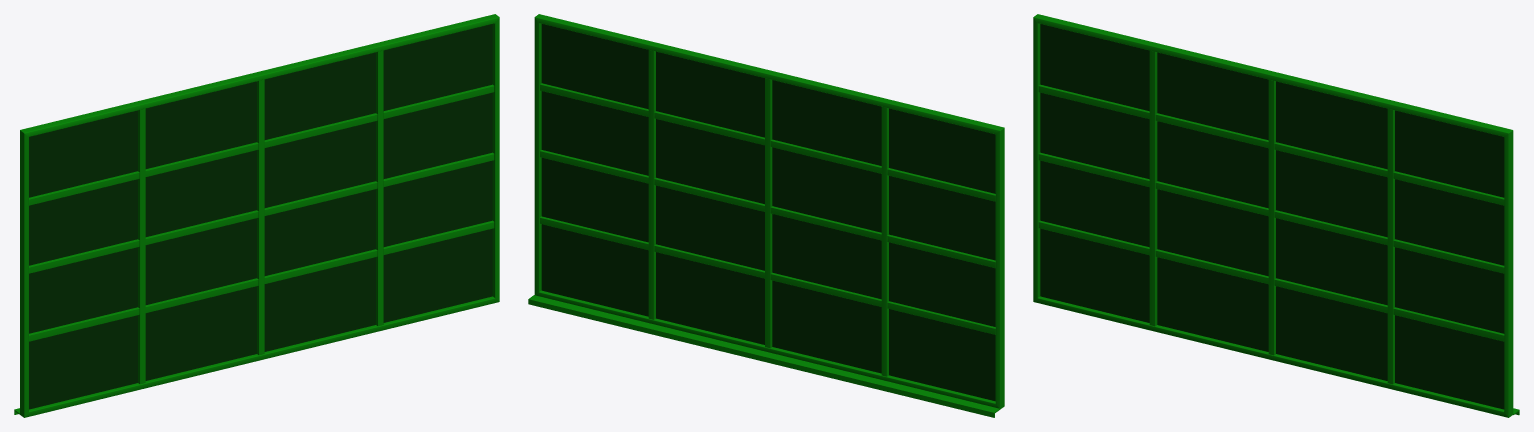
File: garage_door.fbx
3 renders of one model, left to right at view 1: azimuth 30°, elevation 25°; view 2: azimuth 150°, elevation 25°; view 3: azimuth 330°, elevation 25°, orthographic. The views are drawn at different scales.
Visible parts, largest first — view 1: garage_door; view 2: garage_door, reling_1; view 3: garage_door.
Boxes of the visible parts, box(x1,y1,x2,y2) form: garage_door: box(20, 14, 499, 417); garage_door: box(534, 14, 1004, 409); reling_1: box(528, 295, 999, 417); garage_door: box(1033, 14, 1513, 417).
Size of the model in its own units: 474 by 275 by 17.96.
